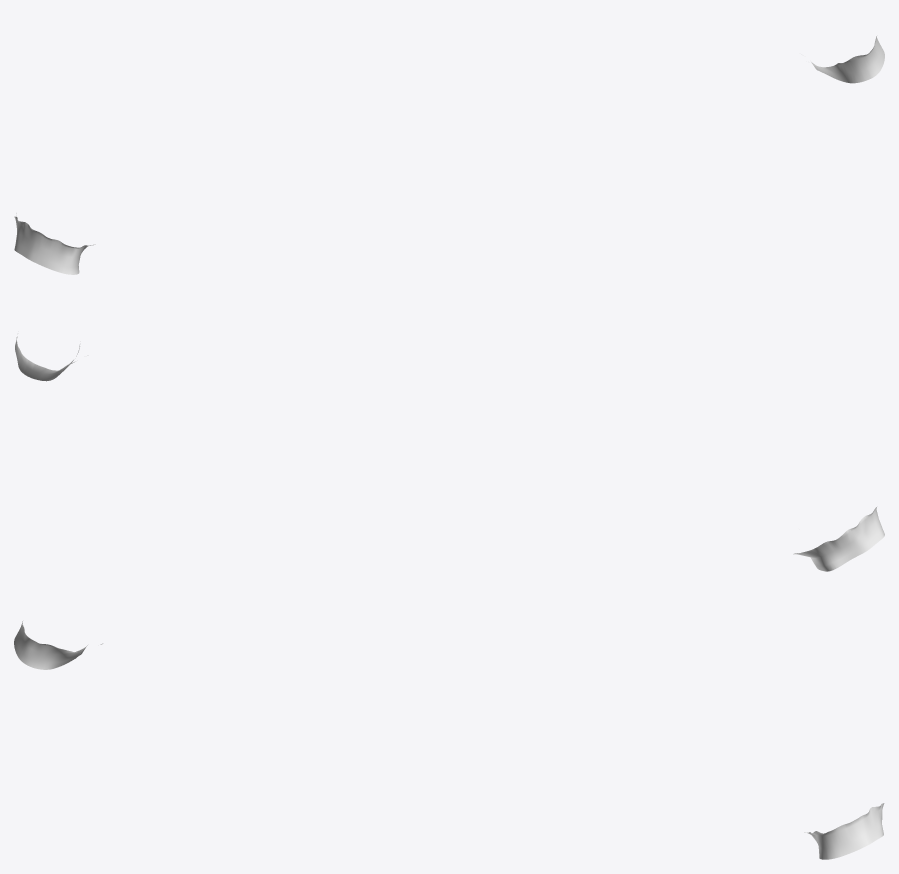
The model's file is Jac_Rukav_V1.glb.
The picture shows the model from 3 angles, top to bottom: view 1: azimuth 30°, elevation 25°; view 2: azimuth 150°, elevation 25°; view 3: azimuth 330°, elevation 25°; orthographic projection.
Visible parts, largest first — view 1: Jac_Rukav.001; view 2: Jac_Rukav.001; view 3: Jac_Rukav.001.
Part boxes in pixels (x1,y1,x2,y2): Jac_Rukav.001: [14, 36, 884, 274]; Jac_Rukav.001: [15, 336, 884, 571]; Jac_Rukav.001: [14, 621, 884, 859].
Size of the model in its own units: 1.71 by 0.0957 by 0.1962.
1 material, 1 textured.
